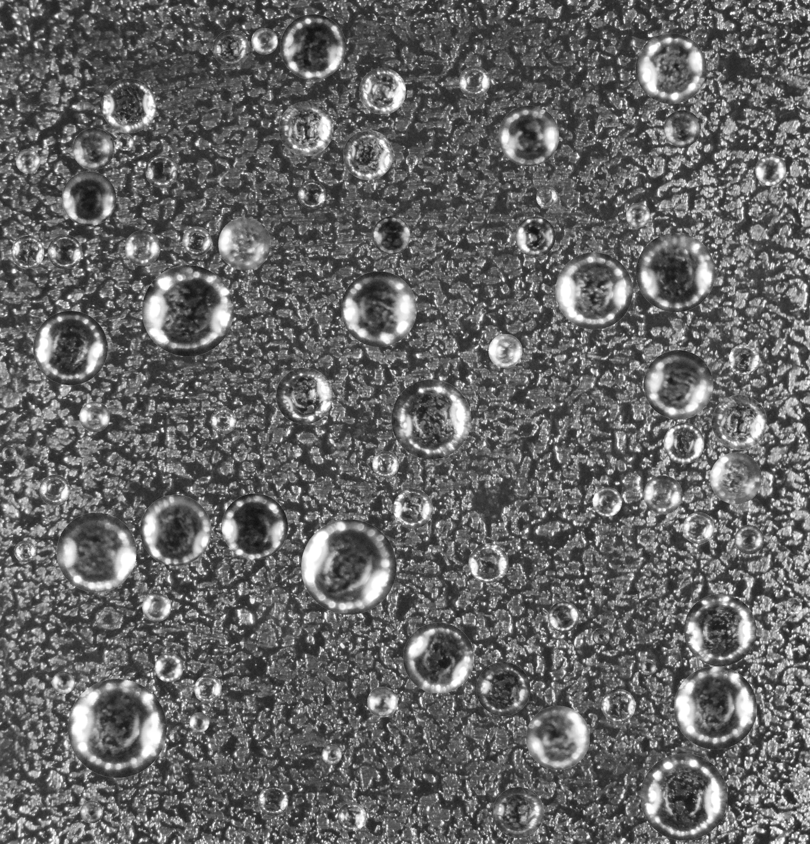Bubble: (67, 679, 166, 777), (301, 519, 396, 614), (142, 265, 233, 356), (640, 753, 727, 840), (674, 666, 757, 749), (391, 379, 471, 459), (56, 512, 136, 592), (636, 233, 715, 312), (555, 252, 632, 329), (341, 271, 416, 346), (33, 310, 107, 385), (684, 594, 756, 666), (140, 494, 211, 565), (403, 622, 474, 693), (635, 33, 706, 103), (643, 350, 713, 419), (221, 493, 287, 559), (280, 14, 345, 79), (526, 706, 589, 769), (498, 105, 559, 166), (276, 367, 332, 424), (278, 101, 333, 156), (712, 395, 767, 450), (101, 78, 156, 133), (61, 171, 116, 225), (476, 662, 530, 716), (218, 217, 270, 270), (710, 452, 761, 504), (492, 787, 543, 838), (343, 130, 393, 179), (359, 67, 405, 114), (72, 127, 114, 169), (663, 423, 704, 463), (515, 216, 555, 256), (468, 543, 508, 583), (393, 489, 432, 528), (643, 475, 682, 514), (372, 216, 410, 254), (212, 30, 249, 66), (664, 110, 700, 146), (124, 230, 160, 265), (47, 234, 81, 269), (488, 334, 522, 367), (601, 689, 635, 722), (11, 235, 44, 268), (145, 155, 177, 187), (458, 66, 490, 97), (683, 512, 714, 543), (39, 474, 70, 505), (755, 154, 786, 185), (548, 601, 579, 632), (367, 686, 397, 717), (79, 401, 109, 432), (258, 786, 288, 816), (729, 344, 759, 374), (592, 487, 622, 516), (734, 525, 764, 554), (337, 802, 366, 831), (154, 653, 183, 682), (182, 226, 211, 255), (142, 592, 171, 621), (297, 180, 325, 208), (194, 675, 221, 702), (251, 28, 277, 54), (372, 451, 398, 477), (210, 408, 236, 433), (15, 149, 40, 173), (626, 203, 650, 227), (52, 671, 74, 694), (80, 800, 102, 823), (14, 540, 35, 562), (536, 186, 557, 208), (189, 712, 209, 732), (321, 744, 341, 764), (785, 597, 802, 614), (592, 628, 609, 645), (116, 133, 133, 150), (1, 446, 16, 461), (641, 660, 656, 674), (405, 154, 417, 166)
